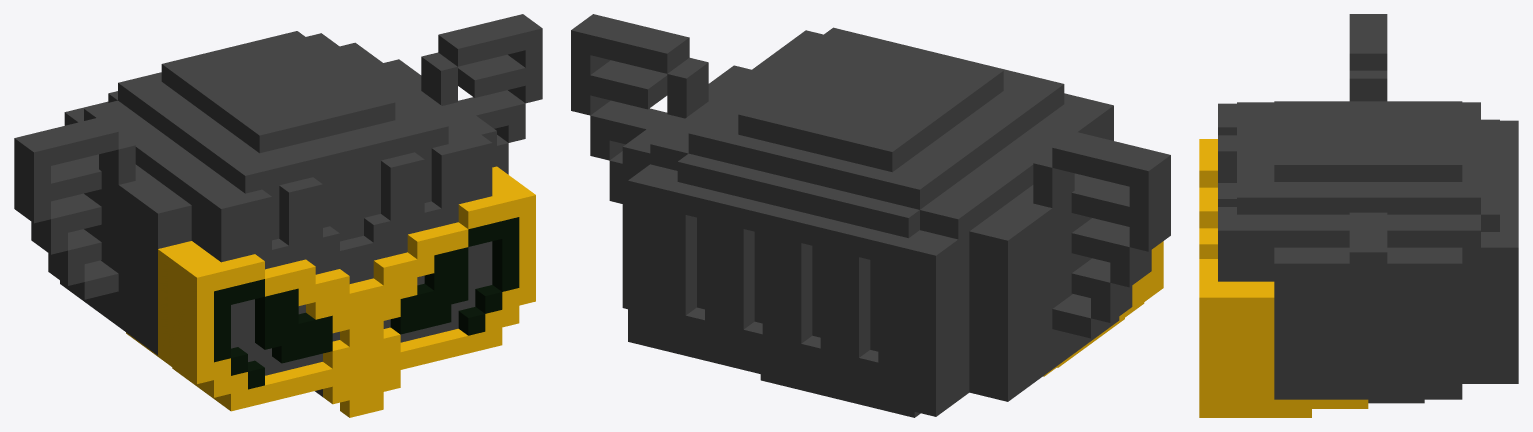
The picture shows the model from 3 angles, left to right: view 1: azimuth 30°, elevation 25°; view 2: azimuth 150°, elevation 25°; view 3: azimuth 270°, elevation 25°; orthographic projection. The views are drawn at different scales.
Parts seen in each view (by area): view 1: 42; view 2: 42; view 3: 42.
Boxes of the visible parts, bbox=[...] form: 42: bbox=[14, 14, 542, 417]; 42: bbox=[571, 14, 1170, 417]; 42: bbox=[1199, 14, 1518, 417].
Size of the model in its own units: 300 by 150 by 170.
Materials: 1 (1 with a texture image).
